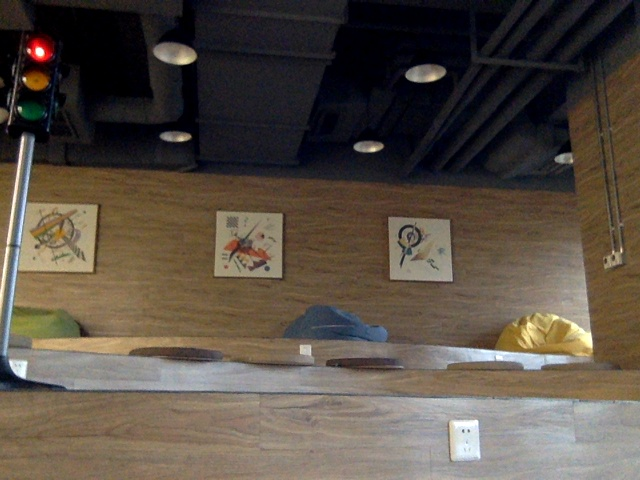red: (19, 34, 54, 127)
